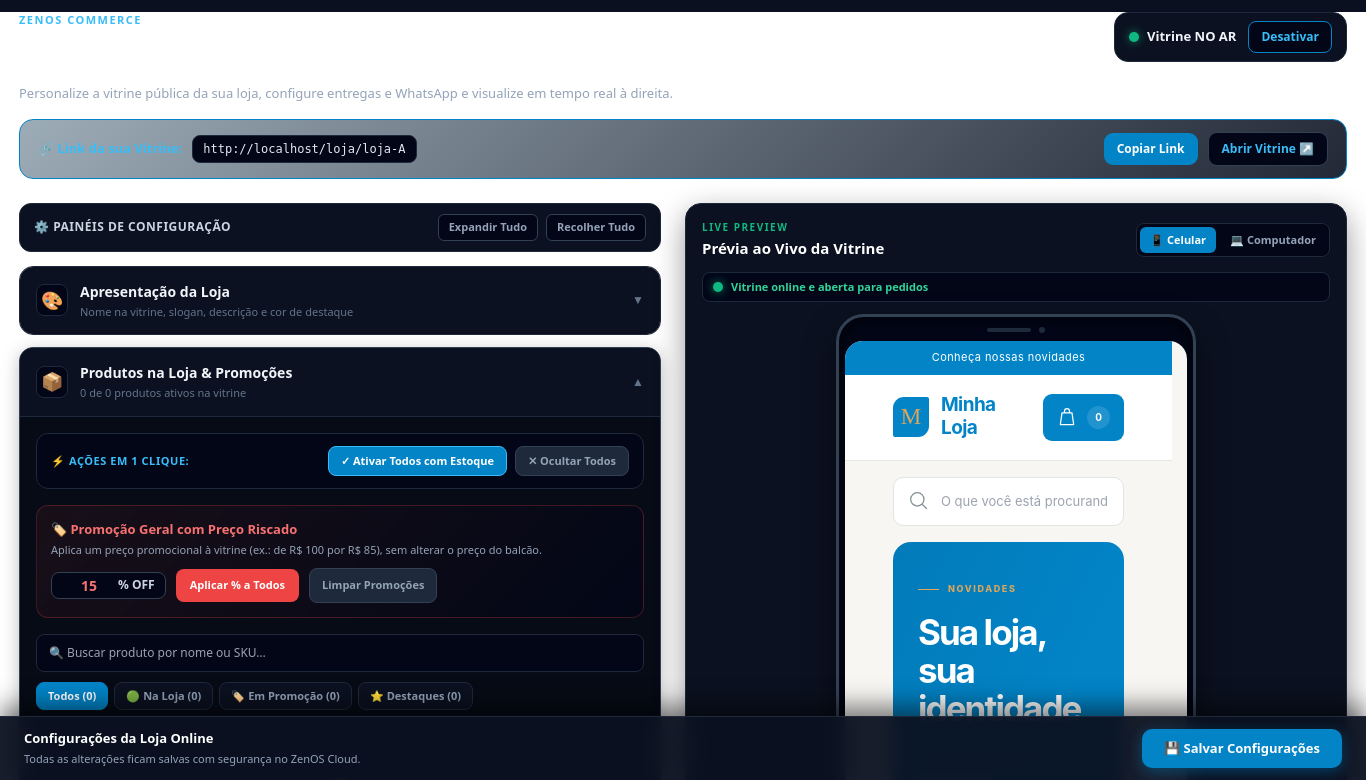
Test: carrega a configuração da loja no Firestore
Click the button "Apresentação da Loja".
click(52, 300)  # box 20,266 -> 660,334
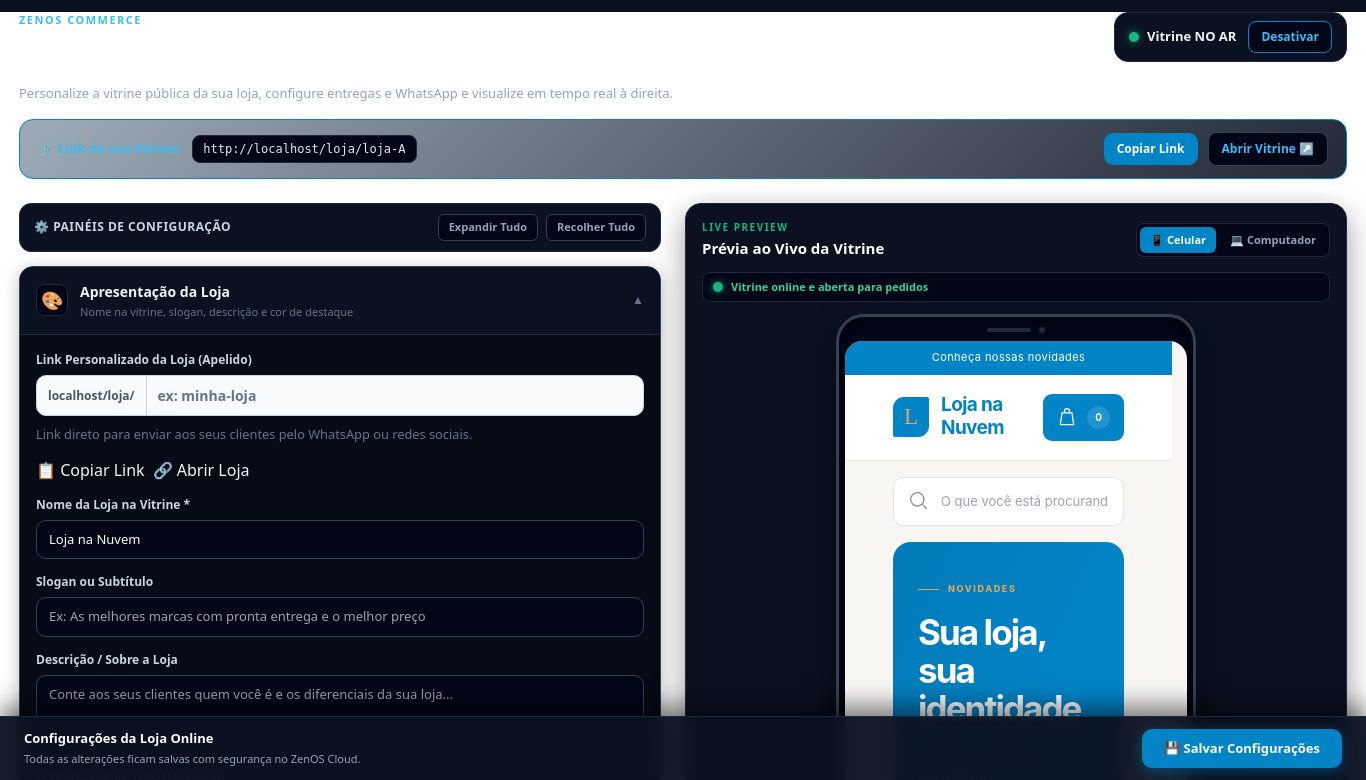
Expected: the field showing "Loja na Nuvem" is shown, 36,520 -> 644,559
